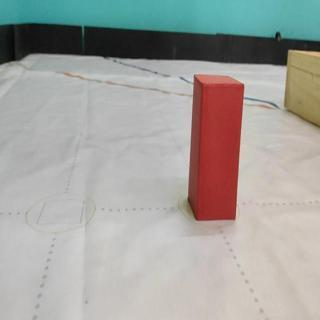redbox: (189, 72, 245, 221)
